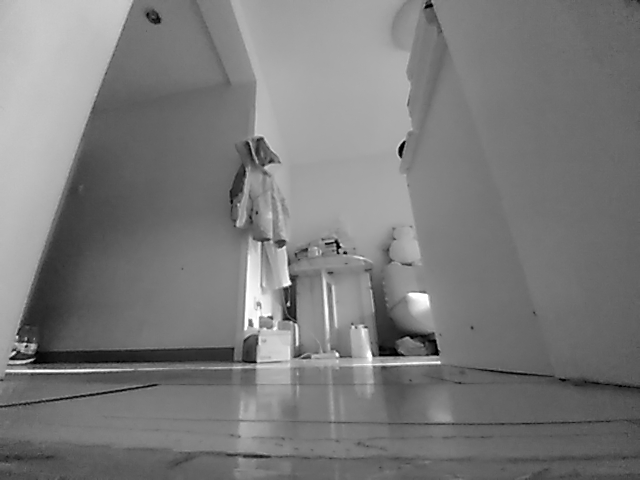power strip: (310, 339, 340, 361)
wire: (293, 351, 312, 360)
